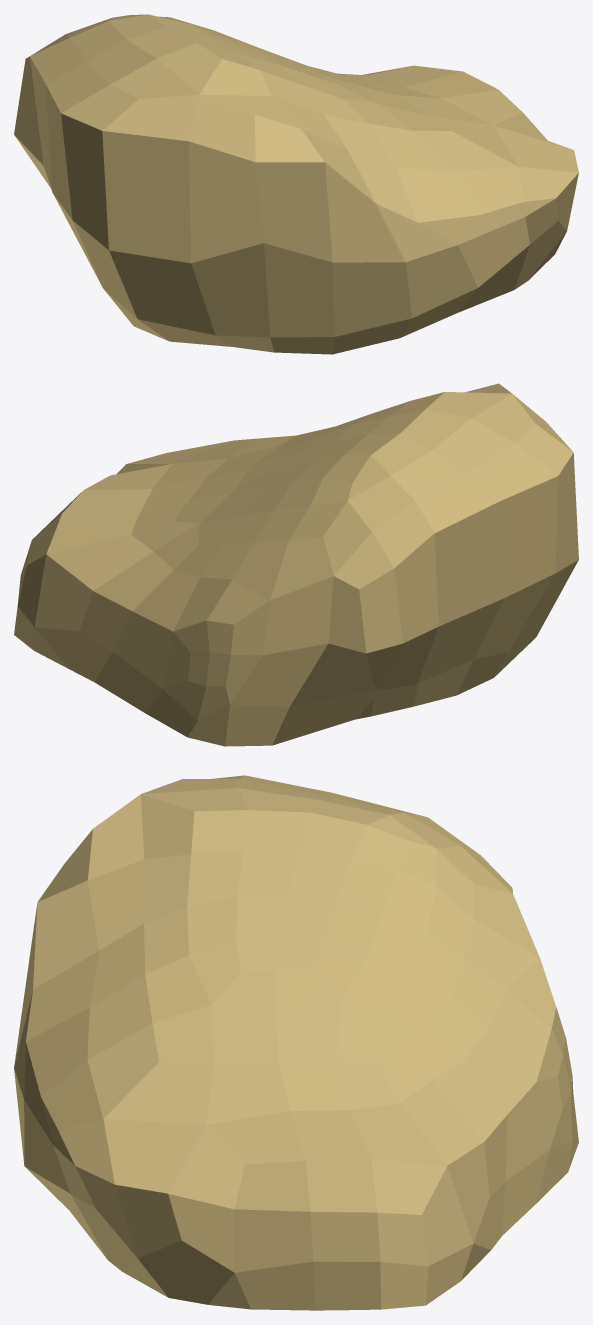
Rendered from slateBoulder1.fbx.
3 views of the same model, one above another, from view 1: azimuth 30°, elevation 25°; view 2: azimuth 150°, elevation 25°; view 3: azimuth 270°, elevation 25° (orthographic). The views are drawn at different scales.
Visible parts, largest first — view 1: Cube_cell.015; view 2: Cube_cell.015; view 3: Cube_cell.015.
Boxes of the visible parts, left/top/right/bottom form: Cube_cell.015: left=14, top=14, right=578, bottom=354; Cube_cell.015: left=14, top=383, right=578, bottom=746; Cube_cell.015: left=14, top=775, right=578, bottom=1310.
Size of the model in its own units: 1009 by 520 by 863.
